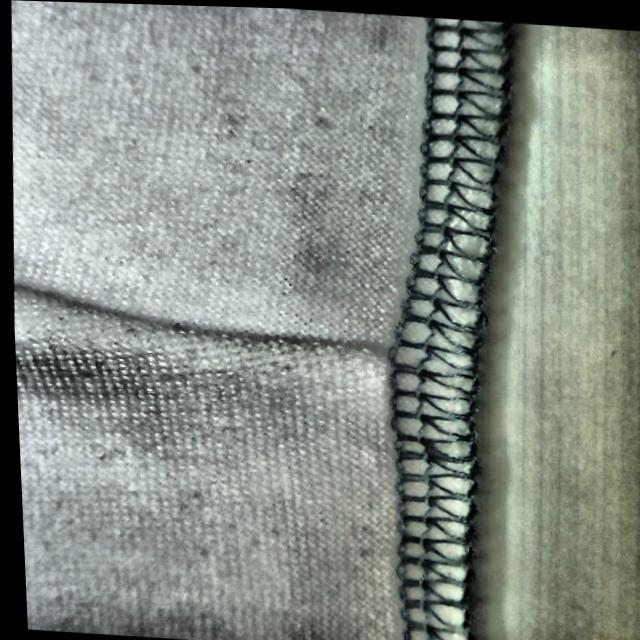seam: (141, 276, 488, 430)
